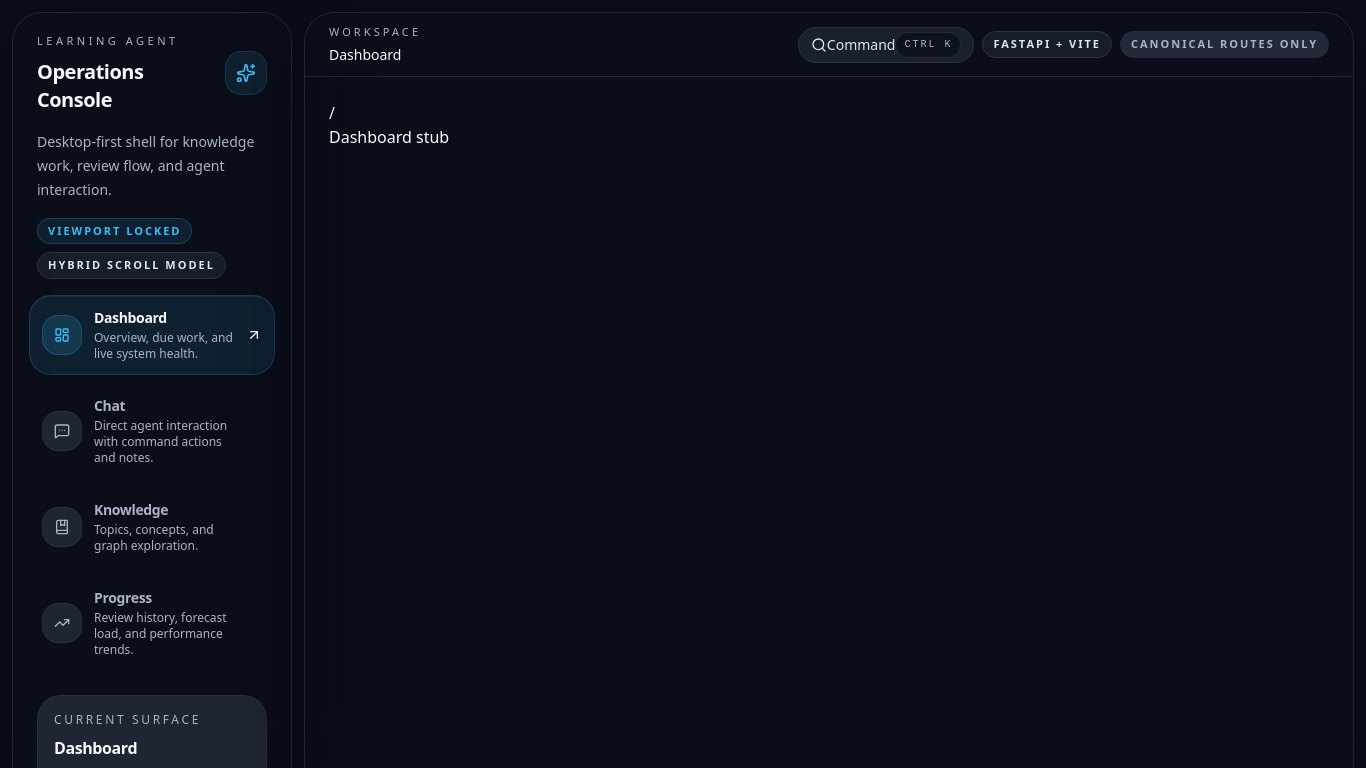
Test: AppShell › opens the command palette with Ctrl+K and navigates to another surface
This screenshot has width=1366, height=768.
Type keys "{Control>}k{/Control}"
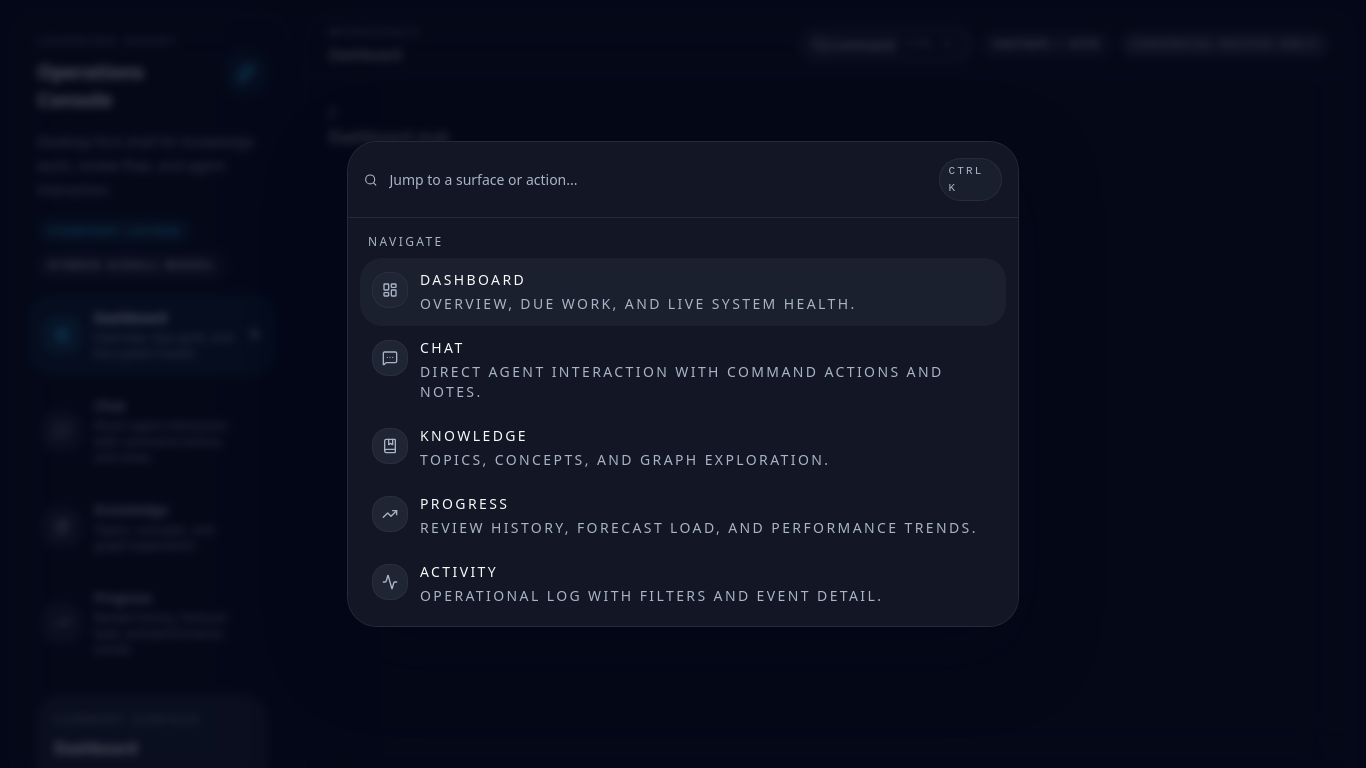
Expected: the dialog is shown, [347,141,1019,627]
Expected: the dropdown with placeholder "Jump to a surface or action..." is shown, [390,170,928,190]
Click the text "Progress" at (465, 504), box [420,494,509,513]
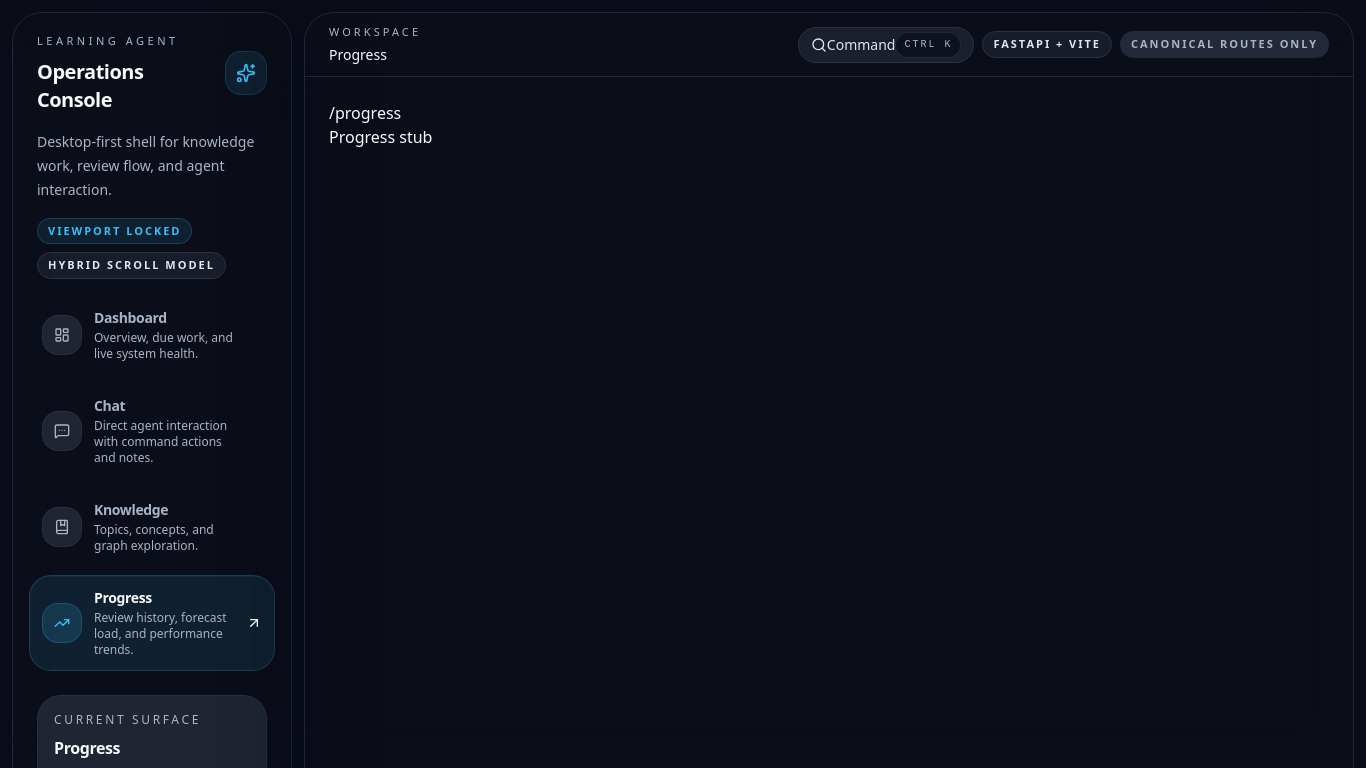
Expected: the text "Progress stub" is shown, [329,126,432,148]
Expected: the text with test id "location-probe" reads "/progress", [329,102,401,124]
